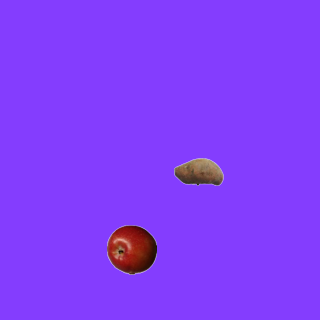Apple Braeburn: (106, 224, 156, 274)
Potato Sweet: (173, 146, 223, 196)
